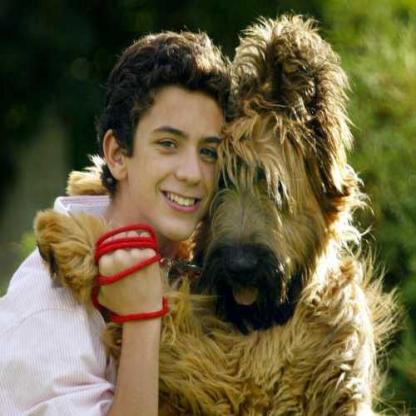briard: (33, 9, 398, 413)
